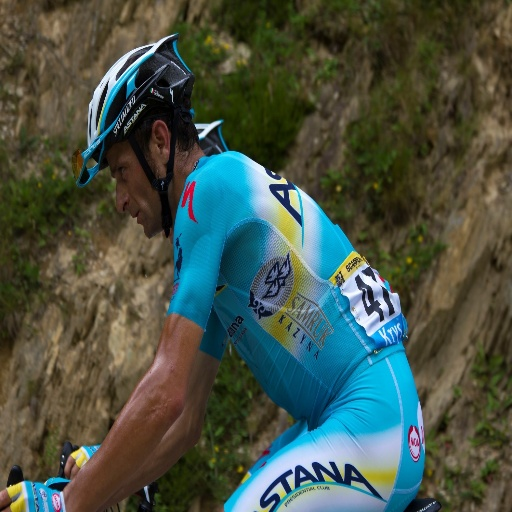hand: (0, 479, 68, 511), (62, 443, 99, 484)
